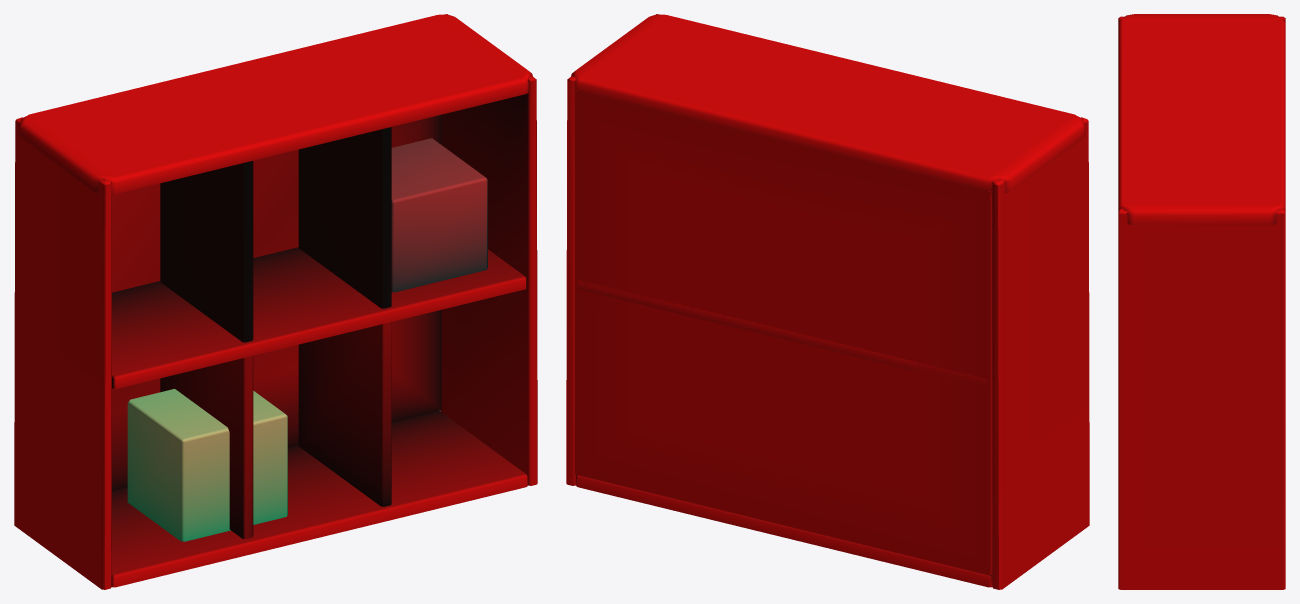
File: CI_Kids_CubbyShelf.glb
3 views of the same model, side by side, from view 1: azimuth 30°, elevation 25°; view 2: azimuth 150°, elevation 25°; view 3: azimuth 270°, elevation 25° (orthographic). The views are drawn at different scales.
Parts seen in each view (by area): view 1: CI_Kids_CubbyShelf; view 2: CI_Kids_CubbyShelf; view 3: CI_Kids_CubbyShelf.
Boxes of the visible parts, bbox=[...] form: CI_Kids_CubbyShelf: bbox=[14, 14, 537, 589]; CI_Kids_CubbyShelf: bbox=[566, 14, 1089, 589]; CI_Kids_CubbyShelf: bbox=[1118, 14, 1285, 589].
Bounding box in the file's own units: 0.9 × 0.8 × 0.32.
